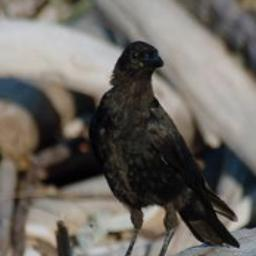Crow: (85, 38, 241, 256)
